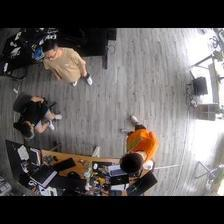normal: (41, 40, 94, 87), (119, 114, 159, 173), (14, 95, 63, 136)
